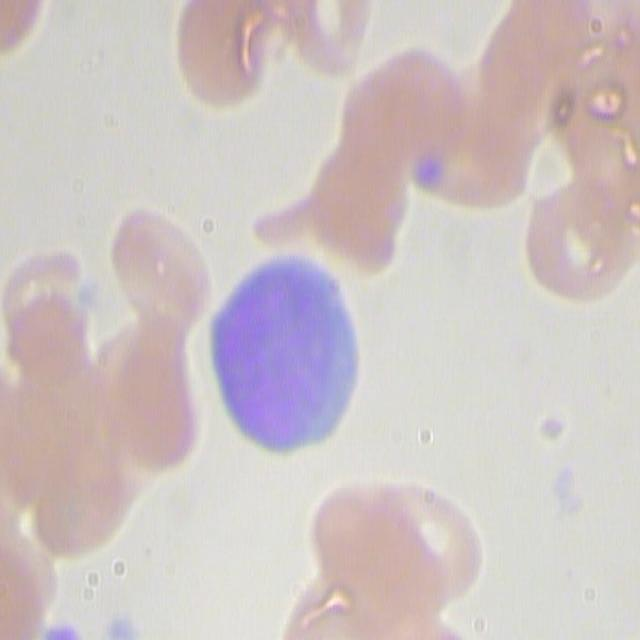RBC: (297, 446, 479, 600), (1, 358, 134, 556), (0, 241, 101, 396), (536, 0, 637, 147), (108, 206, 207, 338), (170, 2, 280, 113), (522, 188, 626, 304), (270, 0, 380, 77), (0, 1, 60, 59)
WBC: (205, 230, 369, 478)
